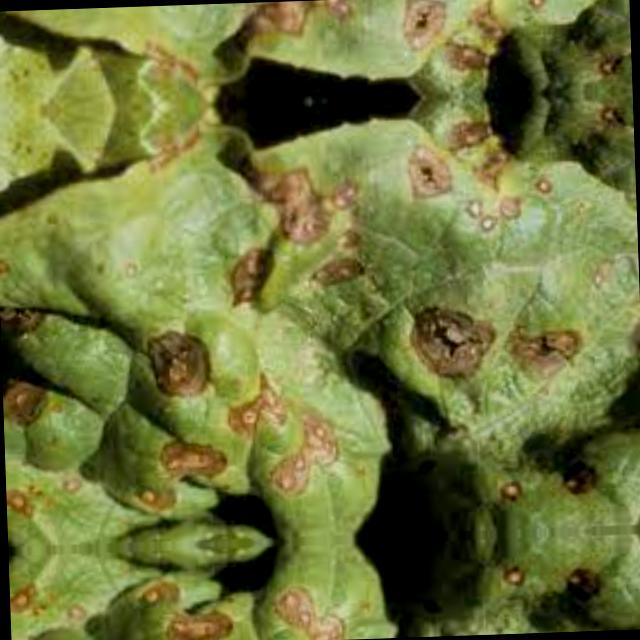Lettuce - Anthracnose: (0, 119, 609, 550), (10, 529, 613, 640), (0, 0, 593, 82)
